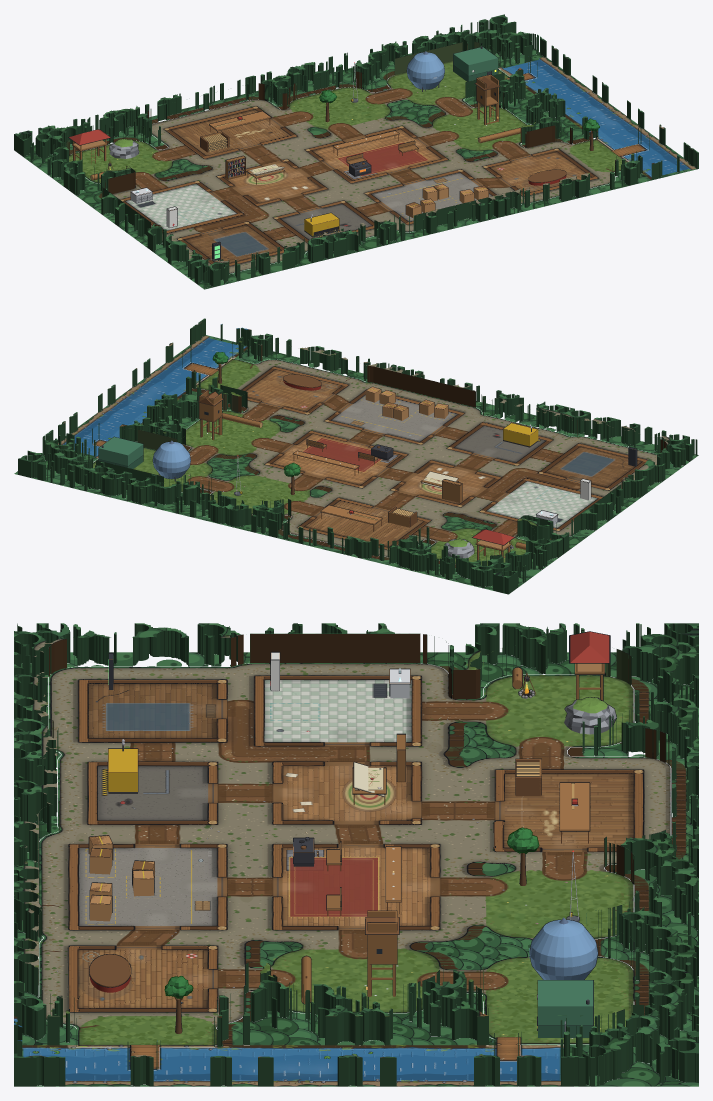
The model's file is wald.glb.
3 renders of one model, top to bottom at view 1: azimuth 30°, elevation 25°; view 2: azimuth 150°, elevation 25°; view 3: azimuth 270°, elevation 25°, orthographic. The views are drawn at different scales.
Visible parts, largest first — view 1: hullside, floor_bachsteg, decor, atlas_props, cap, floor_messe, floor_wassertank, floor_funkmast, floor_hochsitz, floor_labor, floor_saegewerk, floor_feldstation (+9 smaller); view 2: hullside, floor_bachsteg, decor, atlas_props, cap, floor_messe, floor_lager, floor_hochsitz, floor_labor, floor_bootshaus, floor_saegewerk, floor_wassertank (+8 smaller); view 3: floor_bachsteg, hullside, decor, atlas_props, cap, floor_messe, floor_lager, floor_labor, floor_funkmast, floor_aussicht, floor_wassertank, floor_bootshaus (+9 smaller).
Part boxes in pixels (left/top/right/bottom): hullside: left=14, top=15, right=698, bottom=288; floor_bachsteg: left=112, top=99, right=648, bottom=273; decor: left=24, top=33, right=696, bottom=289; atlas_props: left=68, top=46, right=593, bottom=261; cap: left=14, top=14, right=698, bottom=271; floor_messe: left=313, top=130, right=448, bottom=183; floor_wassertank: left=370, top=72, right=472, bottom=127; floor_funkmast: left=289, top=87, right=390, bottom=129; floor_hochsitz: left=432, top=106, right=526, bottom=150; floor_labor: left=127, top=184, right=236, bottom=230; floor_saegewerk: left=172, top=110, right=297, bottom=155; floor_feldstation: left=225, top=162, right=327, bottom=206; hullside: left=18, top=319, right=697, bottom=594; floor_bachsteg: left=184, top=358, right=656, bottom=556; decor: left=14, top=335, right=698, bottom=593; atlas_props: left=98, top=364, right=637, bottom=560; cap: left=18, top=318, right=693, bottom=578; floor_messe: left=273, top=430, right=408, bottom=484; floor_lager: left=332, top=389, right=464, bottom=440; floor_hochsitz: left=186, top=410, right=280, bottom=455; floor_labor: left=488, top=481, right=597, bottom=527; floor_bootshaus: left=241, top=366, right=348, bottom=410; floor_saegewerk: left=306, top=497, right=423, bottom=546; floor_wassertank: left=147, top=447, right=259, bottom=492; floor_bachsteg: left=39, top=663, right=670, bottom=1070; hullside: left=14, top=623, right=698, bottom=1086; decor: left=14, top=652, right=698, bottom=1086; atlas_props: left=88, top=631, right=616, bottom=1037; cap: left=14, top=623, right=698, bottom=1057; floor_messe: left=270, top=844, right=430, bottom=930; floor_lager: left=66, top=844, right=217, bottom=930; floor_labor: left=264, top=680, right=408, bottom=742; floor_funkmast: left=486, top=871, right=633, bottom=938; floor_aussicht: left=481, top=675, right=633, bottom=748; floor_wassertank: left=407, top=925, right=633, bottom=1000; floor_bootshaus: left=66, top=945, right=218, bottom=1012.
Size of the model in its own units: 55.5 by 4.65 by 37.
Materials: 172 (170 with a texture image).
